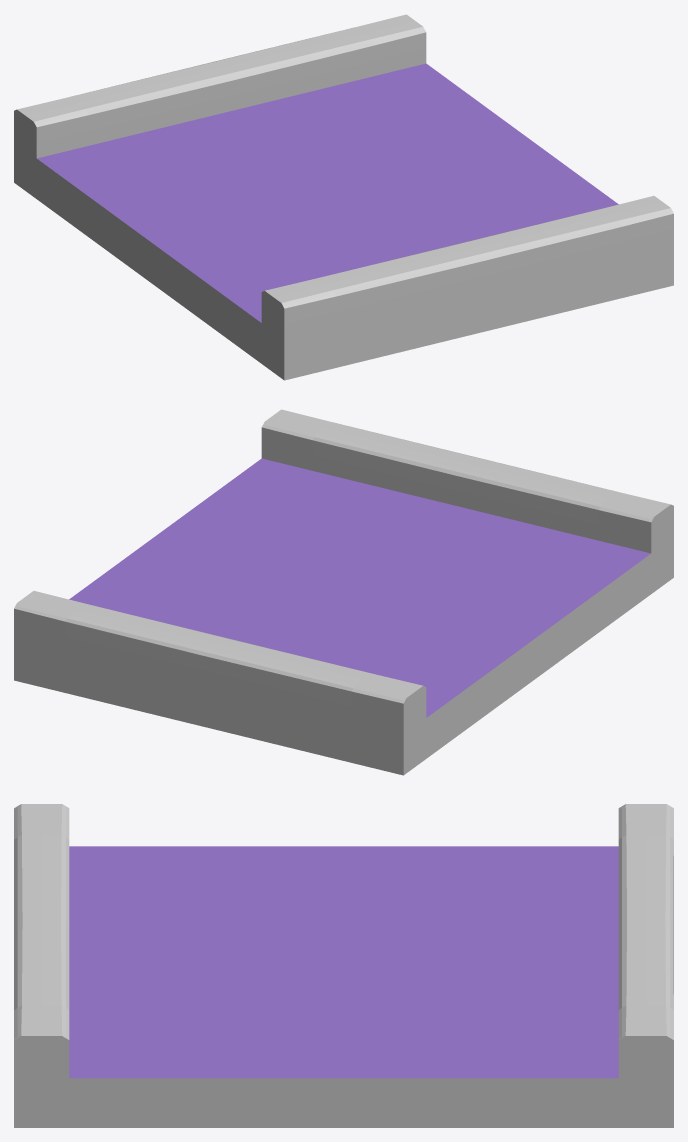
The model's file is road.fbx.
The picture shows the model from 3 angles, top to bottom: view 1: azimuth 30°, elevation 25°; view 2: azimuth 150°, elevation 25°; view 3: azimuth 270°, elevation 25°; orthographic projection. The views are drawn at different scales.
Visible parts, largest first — view 1: Cube; view 2: Cube; view 3: Cube.
Part boxes in pixels (x1,y1,x2,y2): Cube: (14,14,673,380); Cube: (14,409,673,775); Cube: (14,804,673,1127).
Bounding box in the file's own units: 2000 × 370 × 2404.
